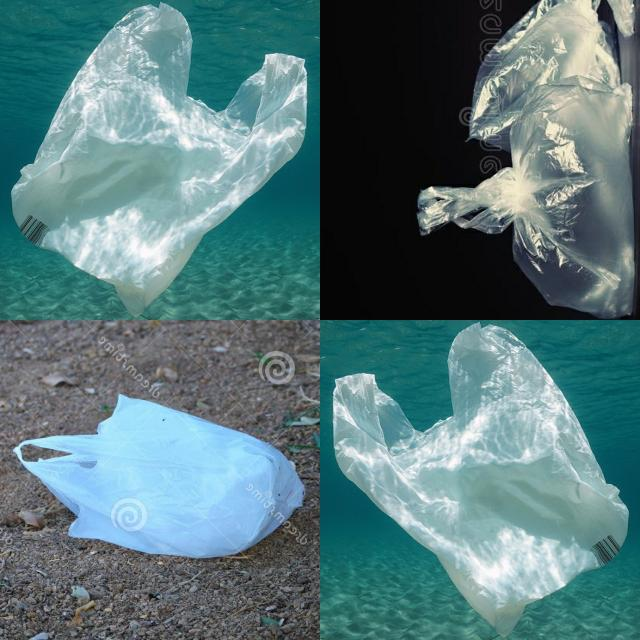Single-layer Plastic: (11, 4, 306, 316), (334, 324, 629, 636), (418, 84, 635, 318), (15, 395, 304, 558), (469, 0, 620, 149)
